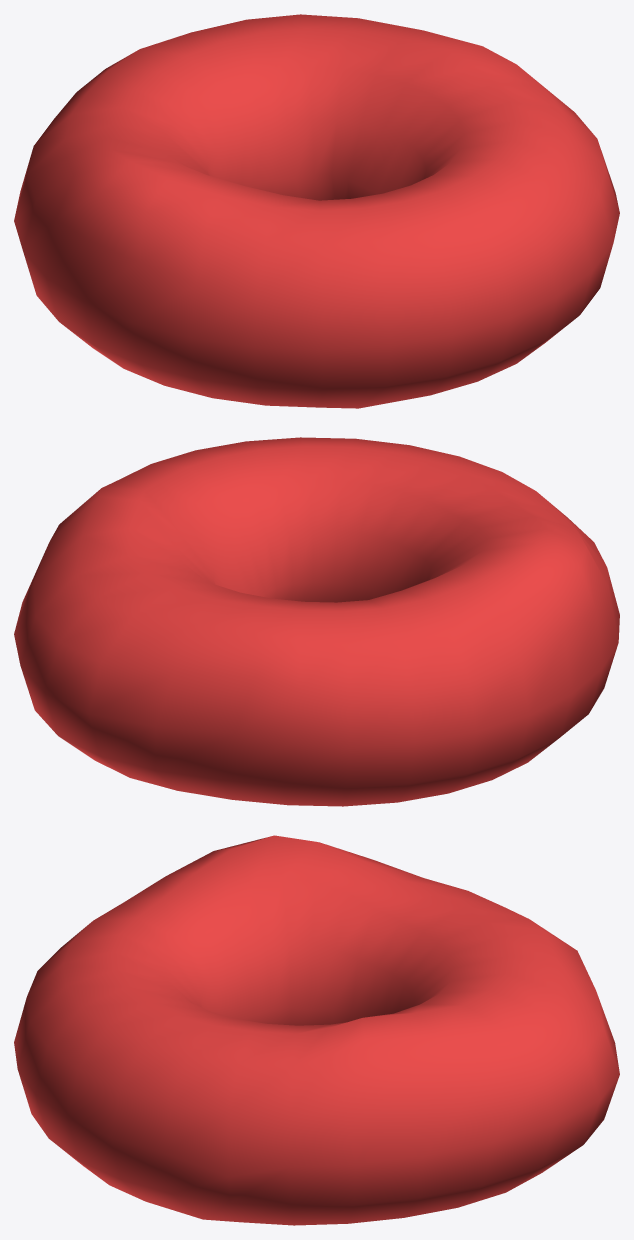
The model's file is cookie.glb.
The picture shows the model from 3 angles, top to bottom: view 1: azimuth 30°, elevation 25°; view 2: azimuth 150°, elevation 25°; view 3: azimuth 270°, elevation 25°; orthographic projection. The views are drawn at different scales.
Parts seen in each view (by area): view 1: Donut; view 2: Donut; view 3: Donut.
Part boxes in pixels (x1=…): Donut: x1=14, y1=14, x2=619, y2=408; Donut: x1=14, y1=437, x2=619, y2=806; Donut: x1=14, y1=835, x2=619, y2=1225.
Bounding box in the file's own units: 0.3182 × 0.1247 × 0.3291.
